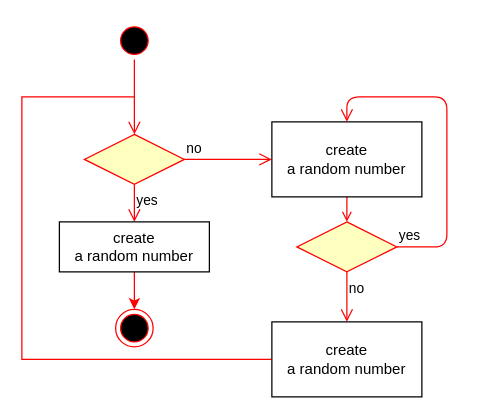
Some shapes in this 481 by 419 pixel diagram are drawn without their labels. Here are the shapes that lost their labels. From the top down, the centre of each, then its label:
At (133,158): "array<2".
At (346,246): "is exist".
